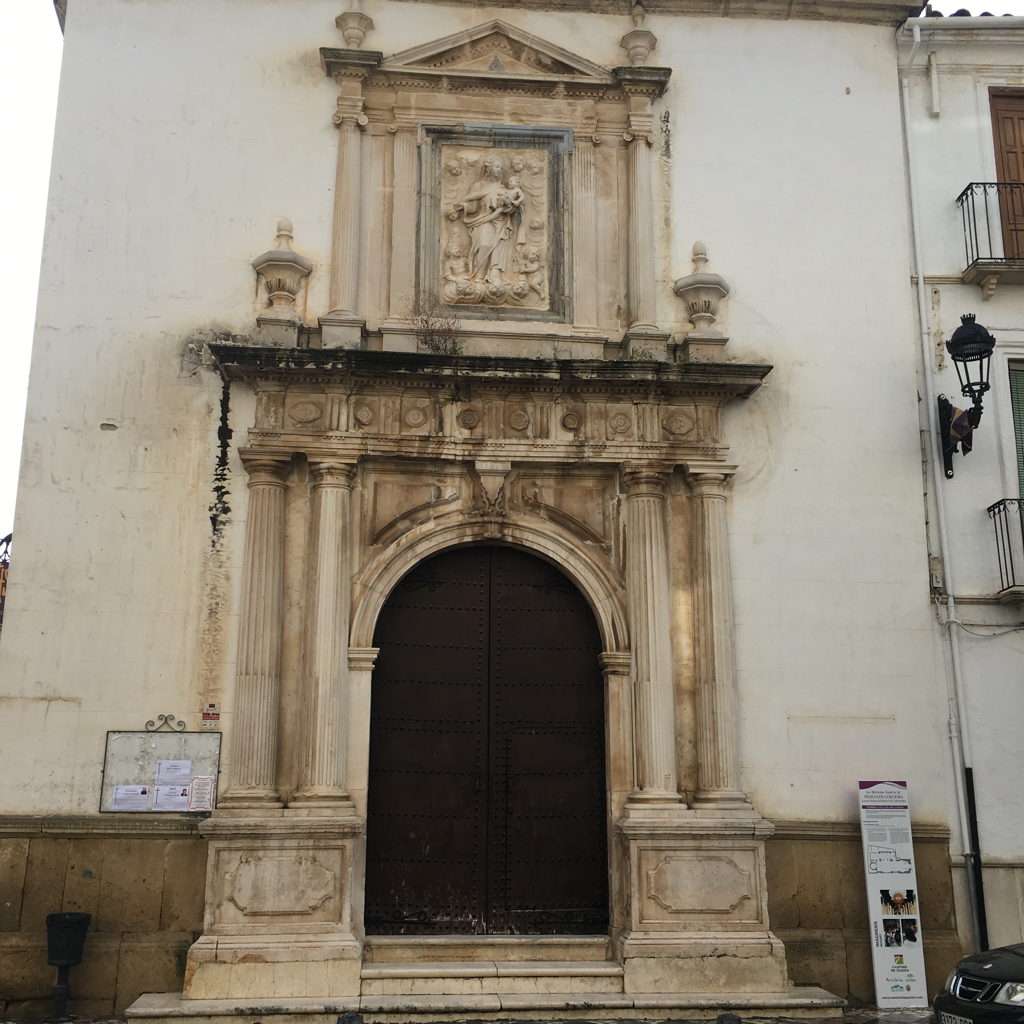arco-medio-punto: (363, 519, 624, 695)
fronton: (381, 13, 623, 81)
